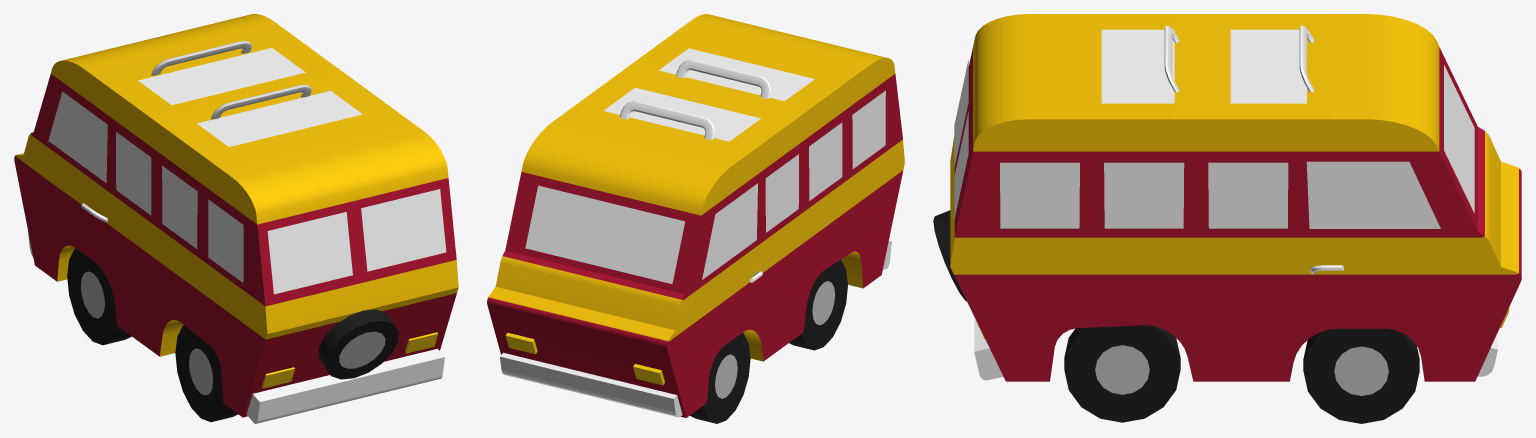
Rendered from китай_дляигры.fbx.
3 views of the same model, side by side, from view 1: azimuth 30°, elevation 25°; view 2: azimuth 150°, elevation 25°; view 3: azimuth 270°, elevation 25° (orthographic). The views are drawn at different scales.
Parts seen in each view (by area): view 1: Cube, Plane.007, Cube.002, Plane.004, Plane.003, Plane, Plane.001, Cylinder.006, Cylinder.001, Cylinder, Plane.002, Cylinder.005 (+3 smaller); view 2: Cube, Plane.005, Plane.007, Cube.001, Plane, Cylinder.001, Cylinder, Plane.001, Plane.002, Cylinder.004, Cylinder.005, Cube.003 (+1 smaller); view 3: Cube, Plane.007, Cylinder, Cylinder.001, Plane.002, Plane, Plane.001, Plane.005, Cube.002, Cylinder.006, Plane.004, Plane.003 (+2 smaller).
Part boxes in pixels (<box>): Cube: <box>14,14,458,417</box>; Plane.007: <box>116,132,243,282</box>; Cube.002: <box>246,349,444,423</box>; Plane.004: <box>361,189,446,271</box>; Plane.003: <box>267,212,352,294</box>; Plane: <box>138,48,305,104</box>; Plane.001: <box>197,90,362,146</box>; Cylinder.006: <box>318,309,398,379</box>; Cylinder.001: <box>67,248,131,345</box>; Cylinder: <box>175,325,237,422</box>; Plane.002: <box>48,91,107,183</box>; Cylinder.005: <box>211,84,311,119</box>; Cube: <box>487,14,904,417</box>; Plane.005: <box>525,185,685,283</box>; Plane.007: <box>765,90,885,232</box>; Cube.001: <box>500,352,682,417</box>; Plane: <box>603,87,760,141</box>; Cylinder.001: <box>690,332,750,423</box>; Cylinder: <box>789,259,847,350</box>; Plane.001: <box>659,48,814,101</box>; Plane.002: <box>702,183,757,279</box>; Cylinder.004: <box>620,101,714,139</box>; Cylinder.005: <box>676,59,770,98</box>; Cube.003: <box>505,332,537,354</box>; Cube: <box>950,14,1521,381</box>; Plane.007: <box>1000,162,1288,228</box>; Cylinder: <box>1064,325,1180,422</box>; Cylinder.001: <box>1303,328,1419,423</box>; Plane.002: <box>1306,161,1440,228</box>; Plane: <box>1230,29,1306,103</box>; Plane.001: <box>1101,29,1174,103</box>; Plane.005: <box>1444,65,1474,213</box>; Cube.002: <box>974,317,1003,380</box>; Cylinder.006: <box>933,210,966,300</box>; Plane.004: <box>954,111,968,219</box>; Plane.003: <box>954,60,968,167</box>.
Bounding box in the file's own units: 134 × 172 × 279.
